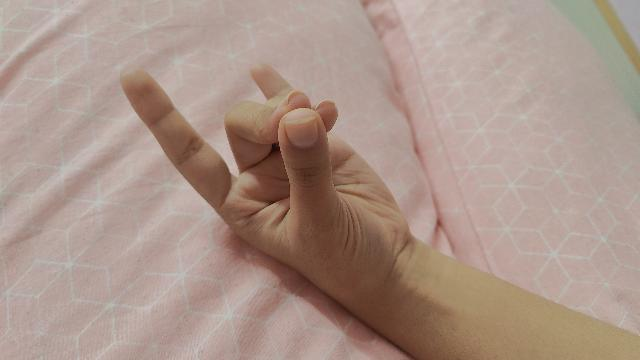sinhamukh: (118, 66, 640, 360)
